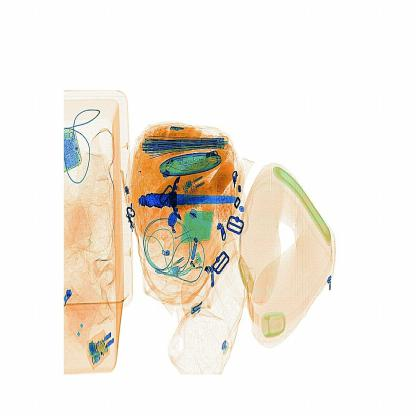wrench: (140, 173, 242, 222)
